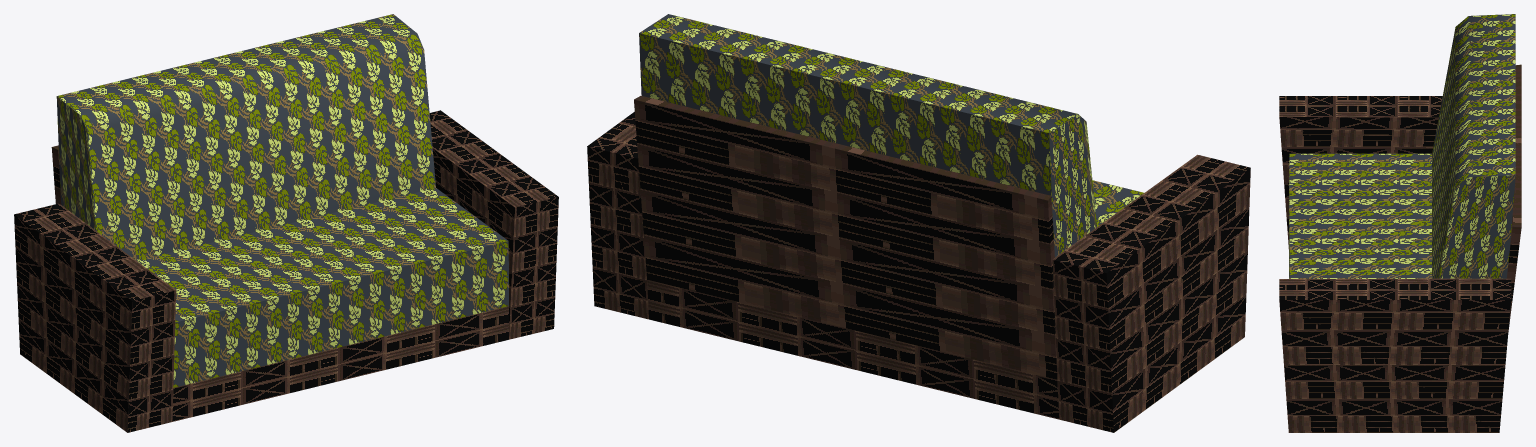
3 views of the same model, side by side, from view 1: azimuth 30°, elevation 25°; view 2: azimuth 150°, elevation 25°; view 3: azimuth 270°, elevation 25° (orthographic). The views are drawn at different scales.
Parts seen in each view (by area): view 1: 3908kg3_gs10; view 2: 3908kg3_gs10; view 3: 3908kg3_gs10.
Boxes of the visible parts, bbox=[...] form: 3908kg3_gs10: bbox=[14, 14, 558, 432]; 3908kg3_gs10: bbox=[587, 14, 1250, 432]; 3908kg3_gs10: bbox=[1279, 14, 1521, 432].
Size of the model in its own units: 1.99 by 1.08 by 1.
2 materials, 2 textured.
